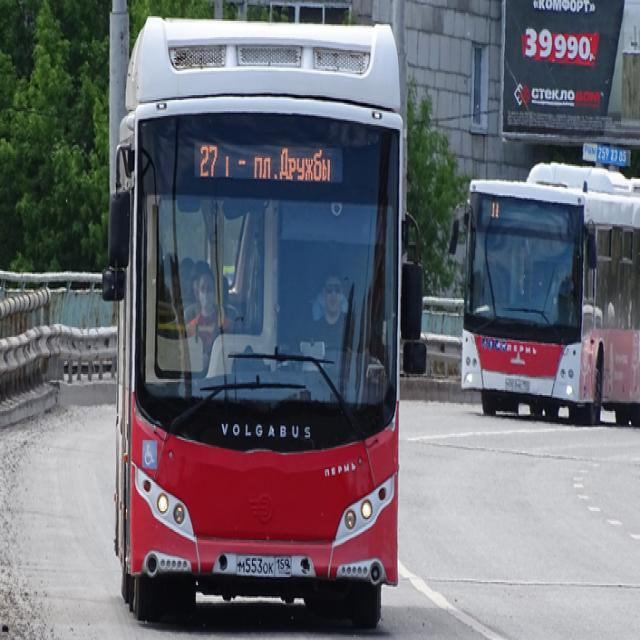non emergency car: (102, 14, 407, 638), (458, 160, 640, 432)
